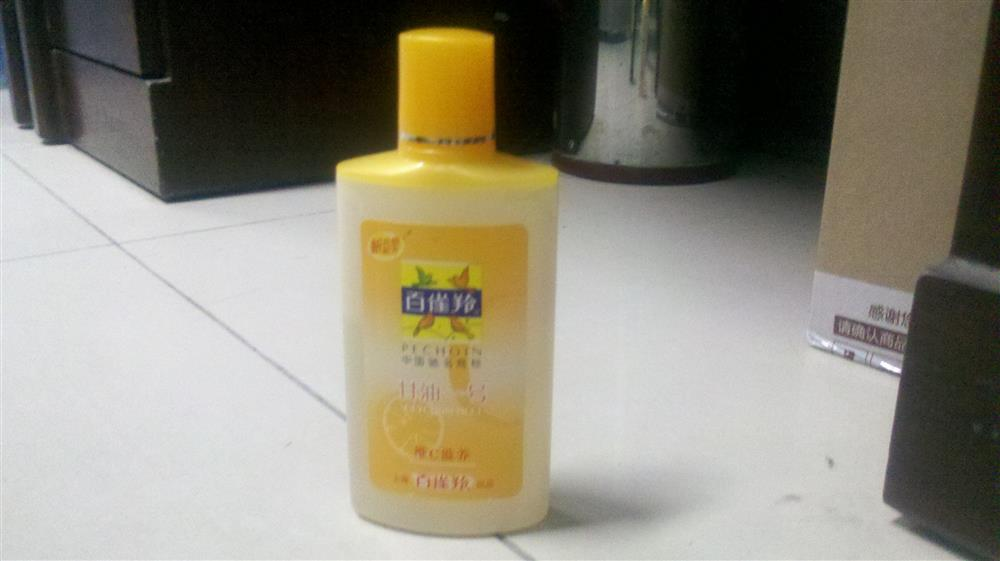pechoin: (333, 25, 561, 536)
